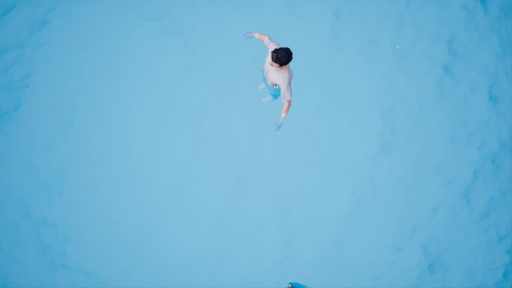person: (243, 27, 301, 135)
